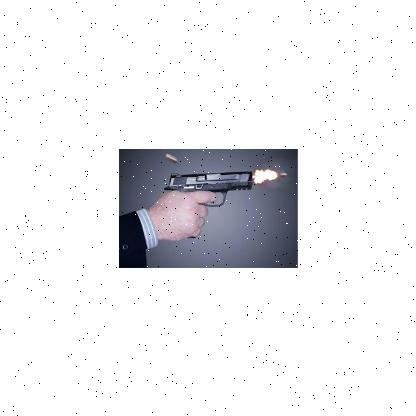gun: (162, 170, 254, 238)
